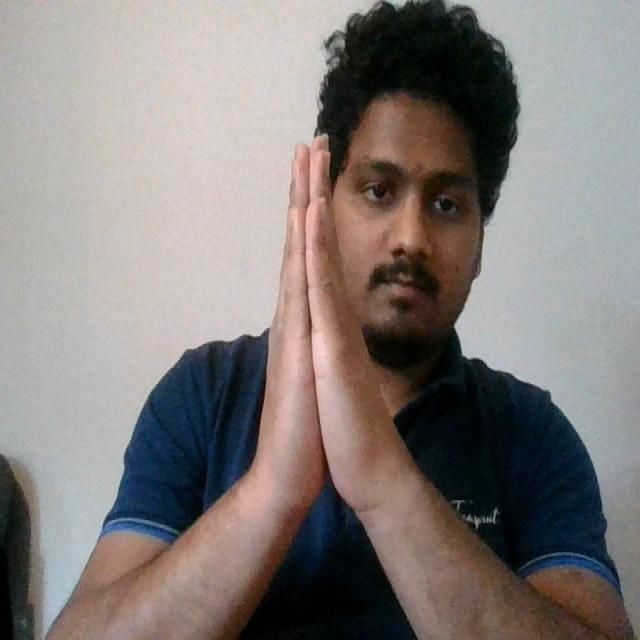Thanks: (243, 130, 413, 532)
